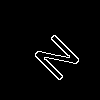N: (25, 25, 83, 83)
